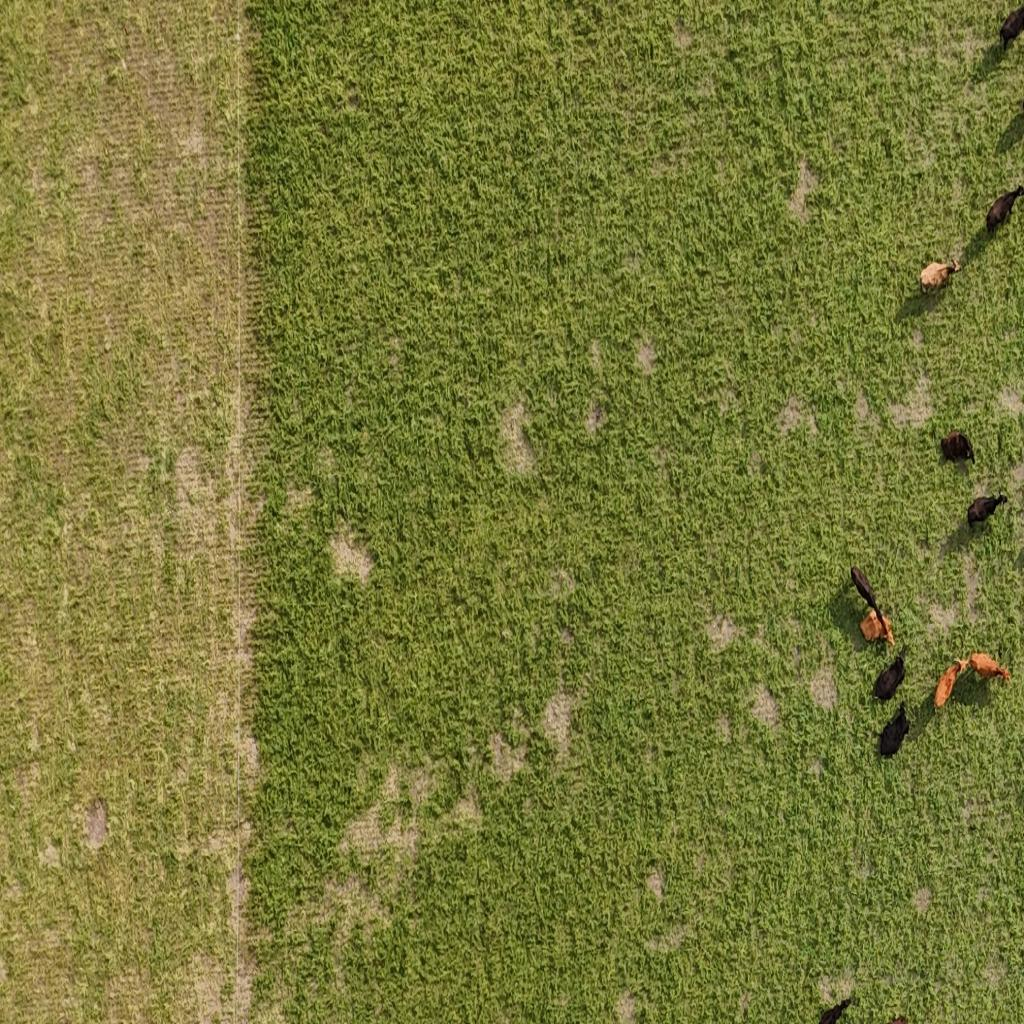cow: (849, 563, 894, 651), (984, 185, 1024, 236), (992, 2, 1023, 66), (873, 645, 907, 703), (878, 702, 911, 758), (918, 256, 962, 297), (934, 658, 968, 709), (970, 650, 1012, 685), (966, 493, 1006, 528), (941, 431, 975, 465), (817, 997, 852, 1024)
